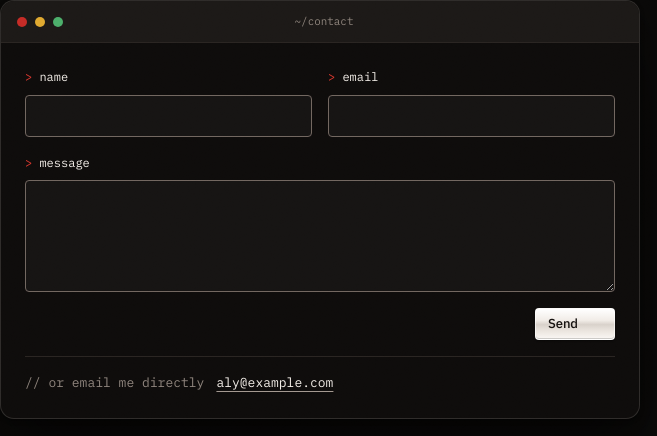
Scenario: ContactForm › announces validation errors and focuses the first invalid field
Step 1. Click the button "Send" → (575, 324), box [535, 308, 615, 340]
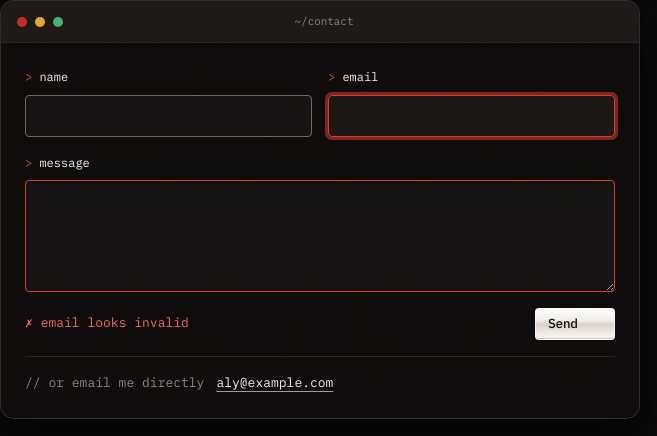
Result: the message shows "email looks invalid" at [25, 314, 189, 331]
Step 2. Type "visitor@example.com" into the field labelled "> email" → (472, 116), box [328, 95, 615, 137]
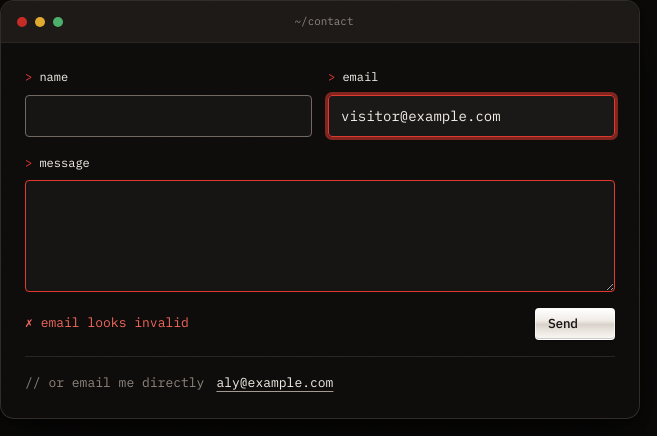
Step 3. Click the button "Send" → (575, 324), box [535, 308, 615, 340]
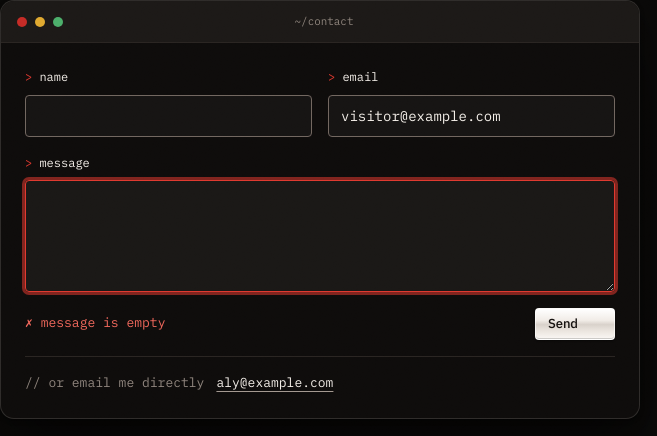
Result: the message shows "message is empty" at [25, 314, 165, 331]
